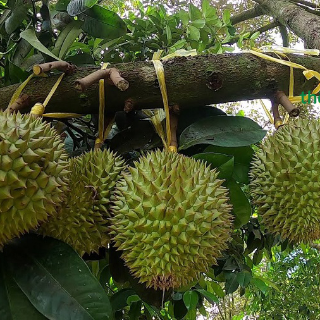sau_rieng: (107, 145, 239, 294)
